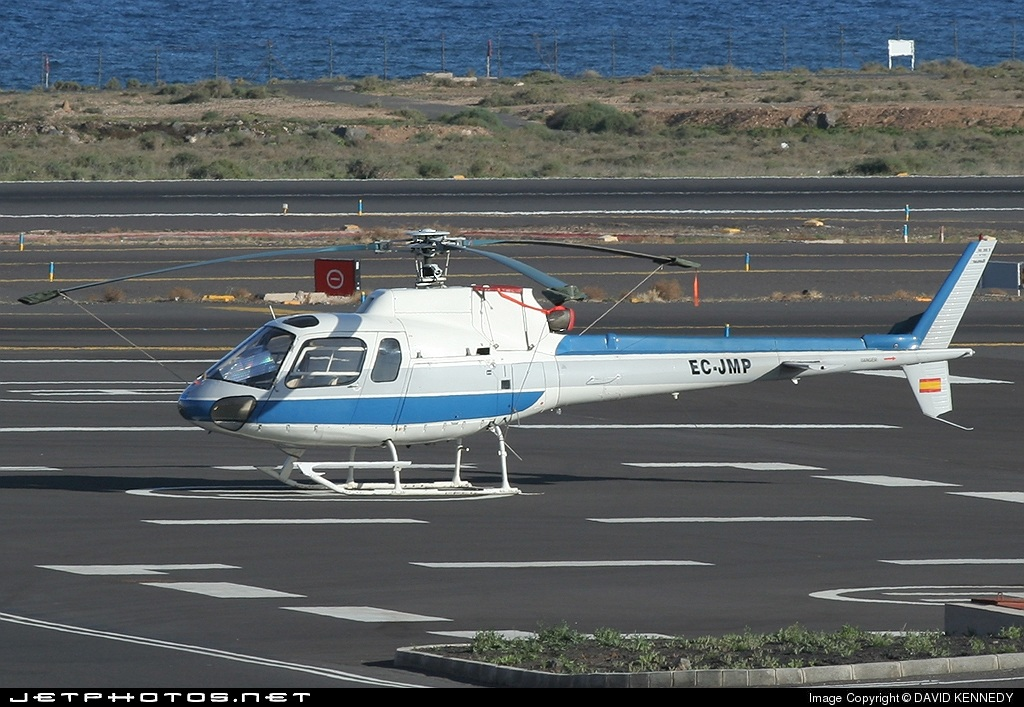number: (681, 356, 759, 380)
